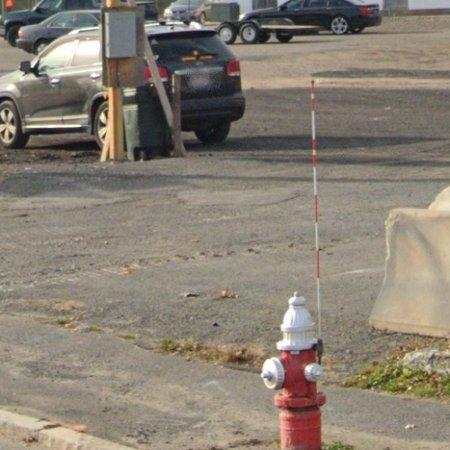a fire hydrant: (275, 349, 327, 450)
